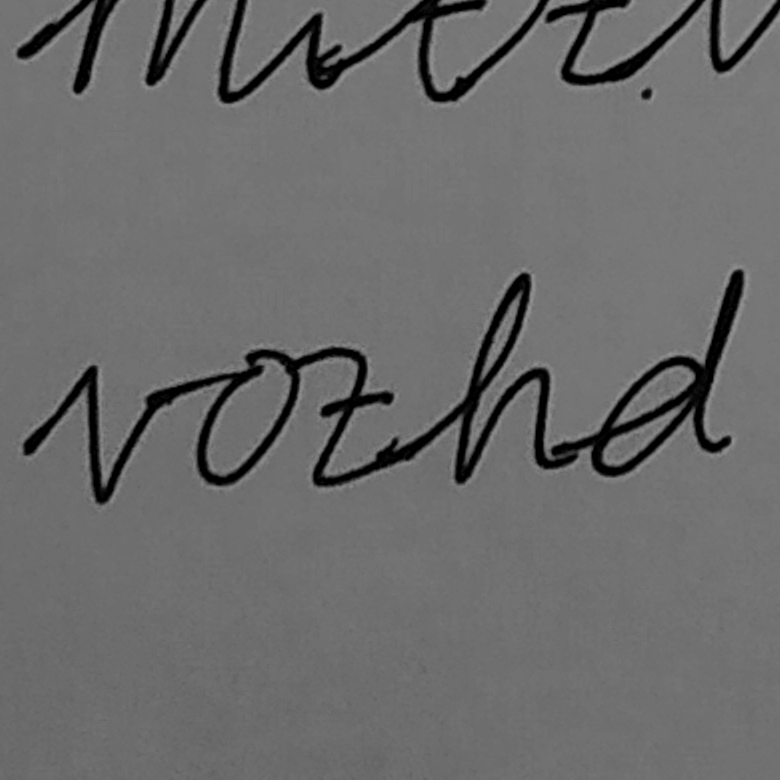d: (585, 264, 747, 481)
h: (449, 266, 566, 489)
o: (193, 345, 302, 493)
v: (74, 359, 171, 509)
z: (304, 341, 404, 491)
